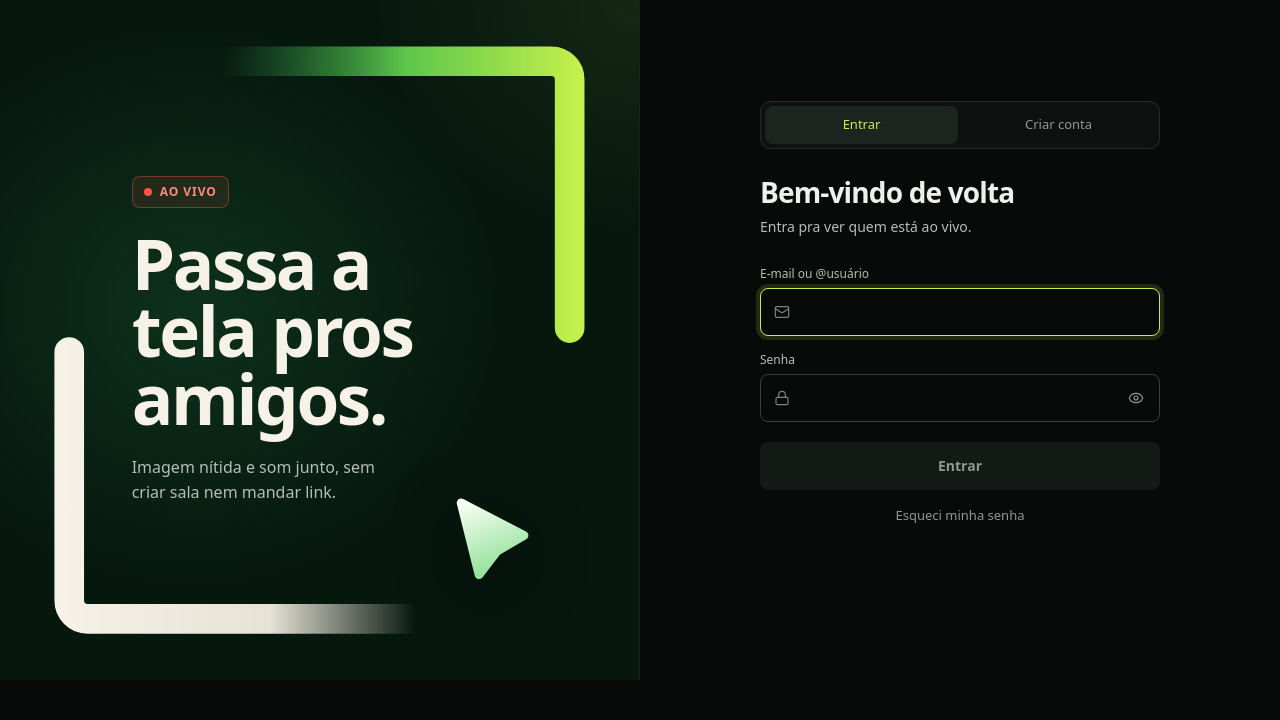
limits resending the code with a countdown
Click the tab "Criar conta" at (1058, 125), box [962,106,1155,144]
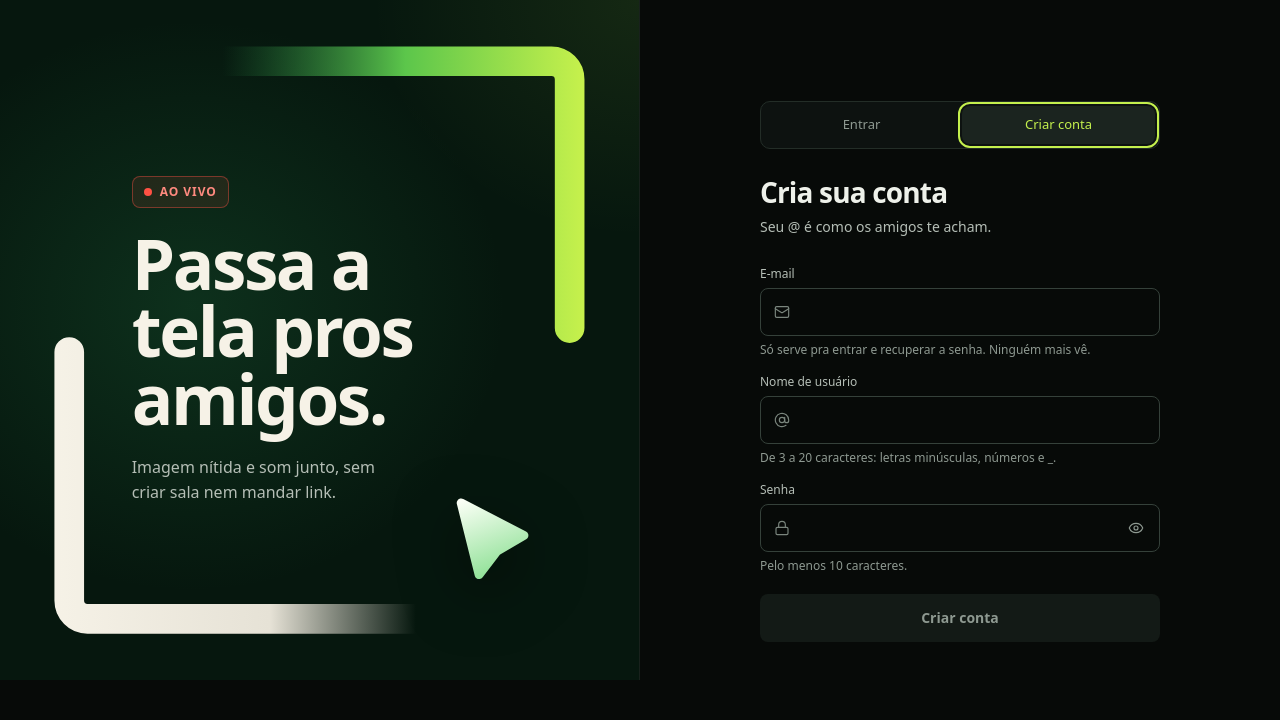
Type "ana@example.com" into the field labelled "E-mail" at (960, 312), box [760,288,1160,336]
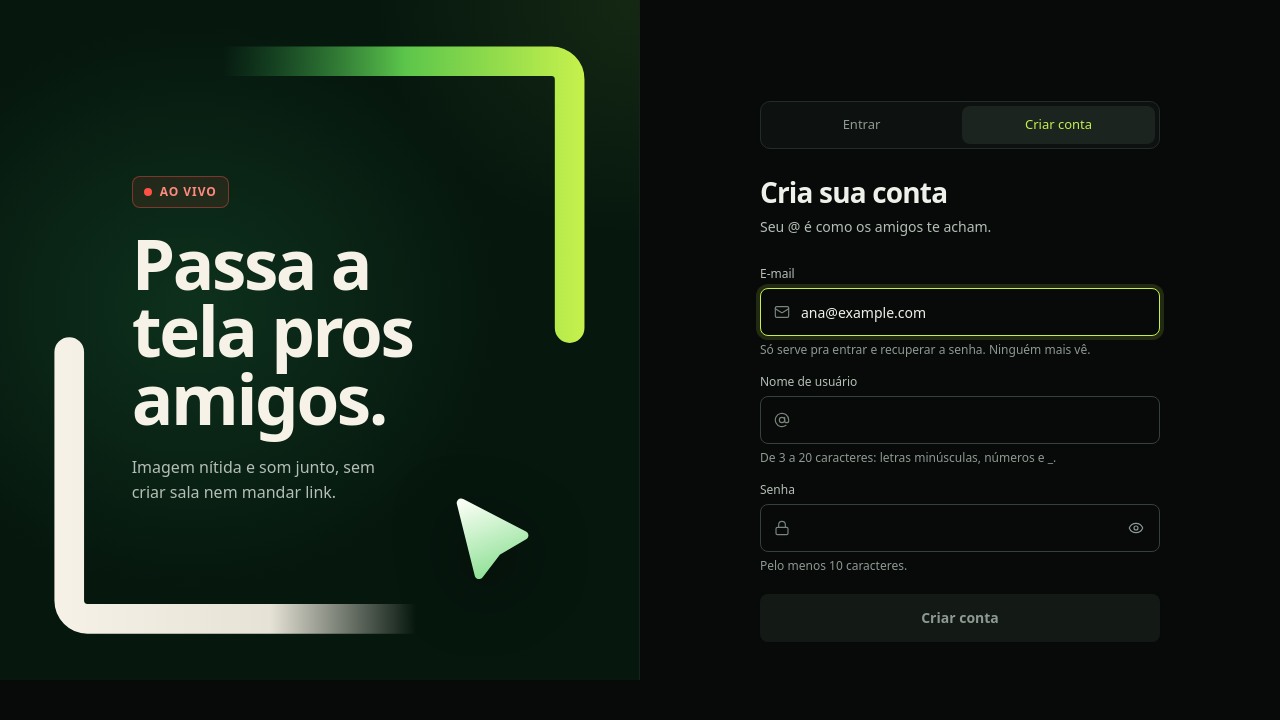
Type "ana" into the field labelled "Nome de usuário" at (960, 420), box [760,396,1160,444]
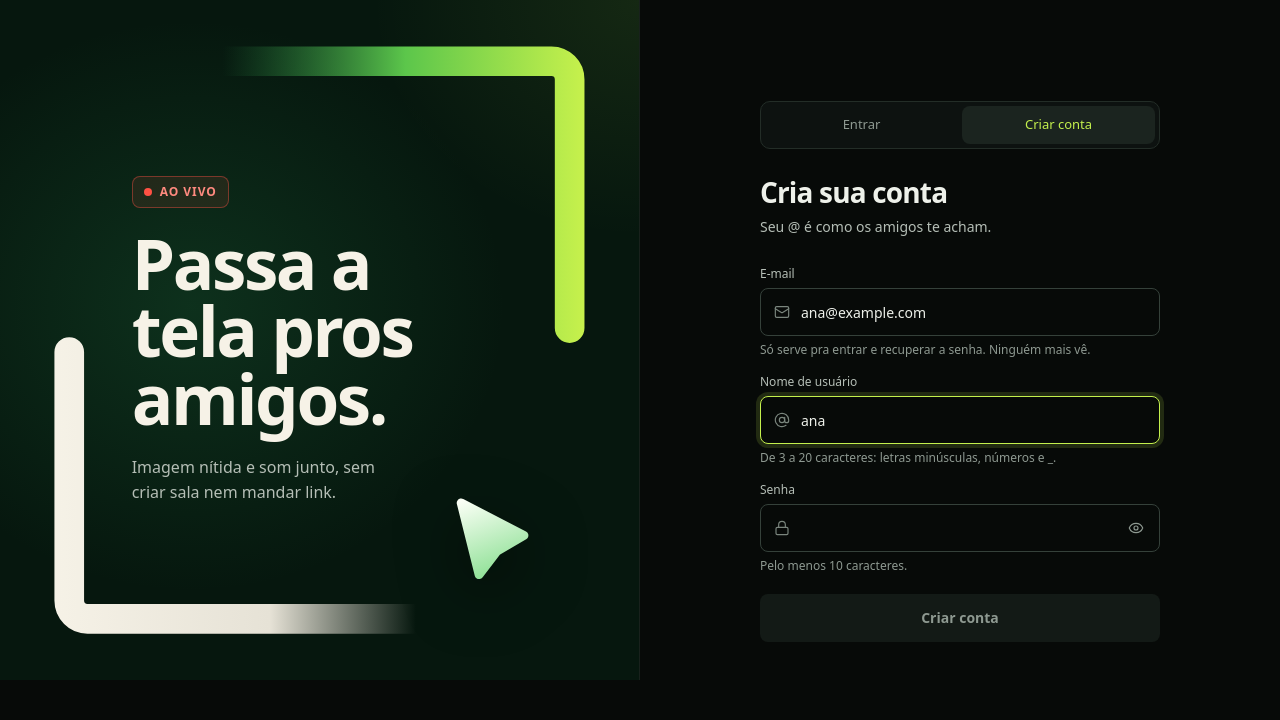
Type "uma-senha-bem-longa-42" into the password field labelled "Senha" at (960, 528), box [760,504,1160,552]
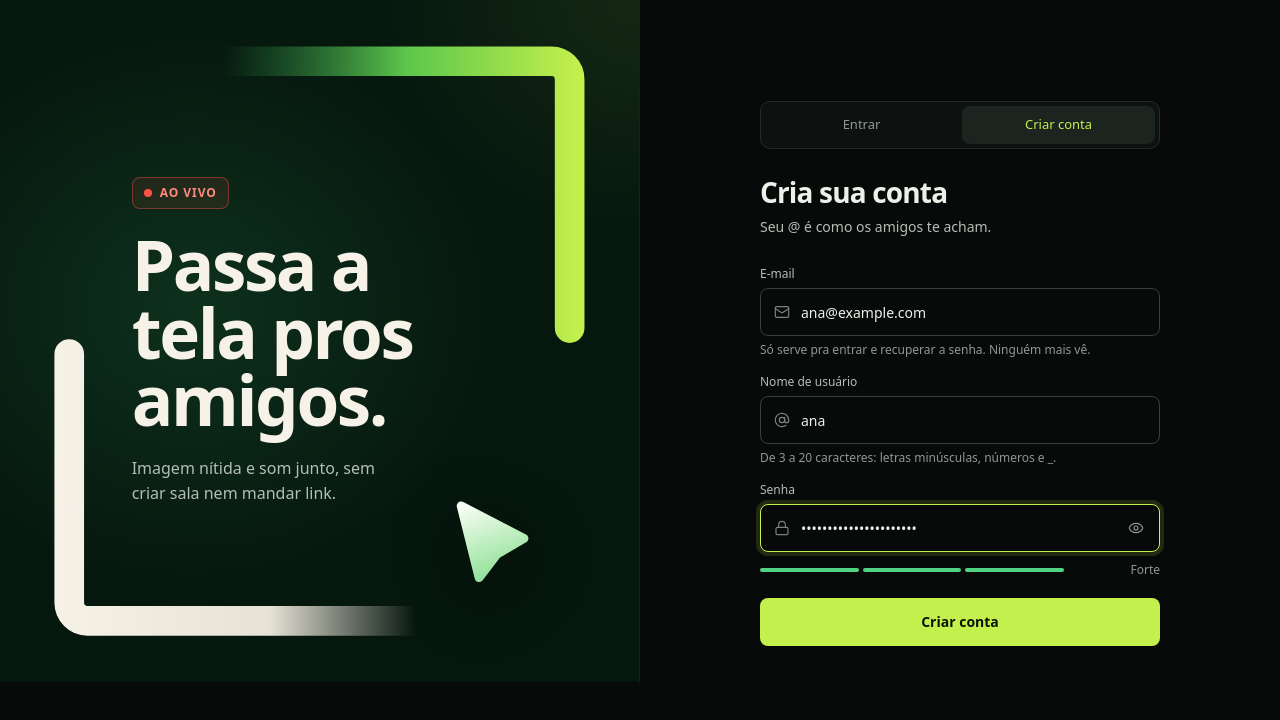
Click the button "Criar conta" at (960, 622), box [760,598,1160,646]
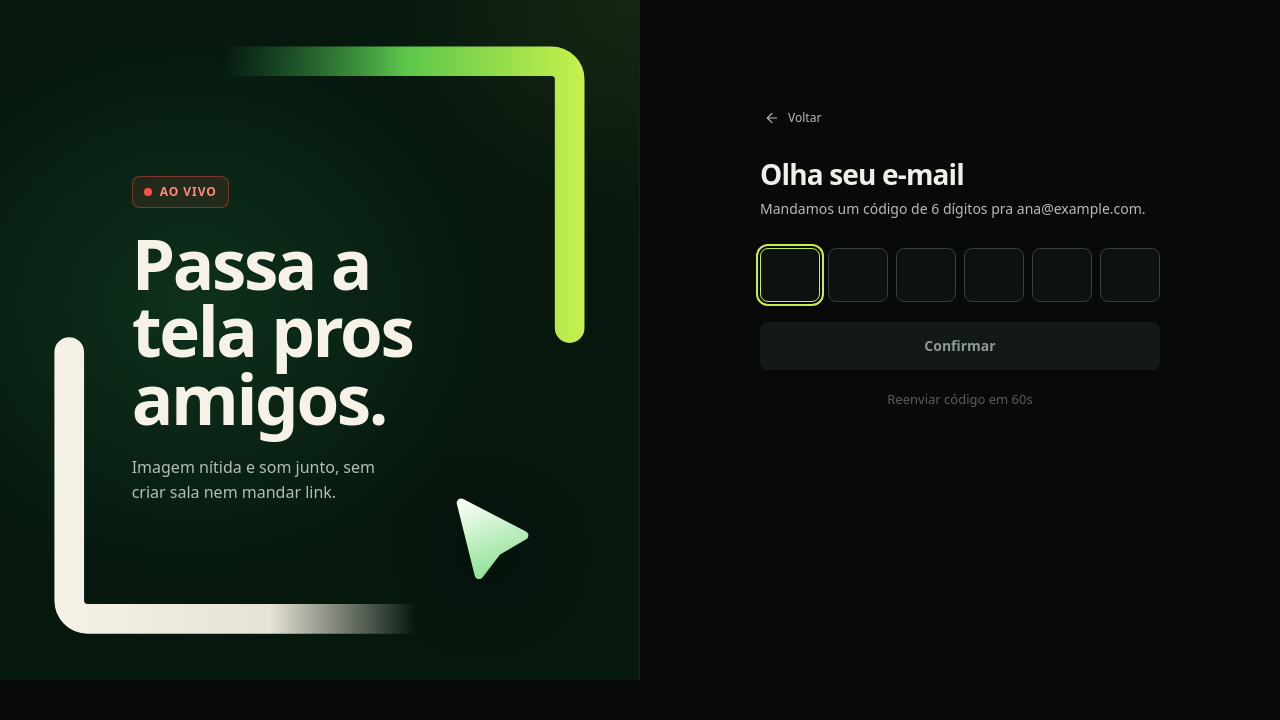
Expected: the button "Reenviar código em 60s" is disabled, [887,390,1033,410]
